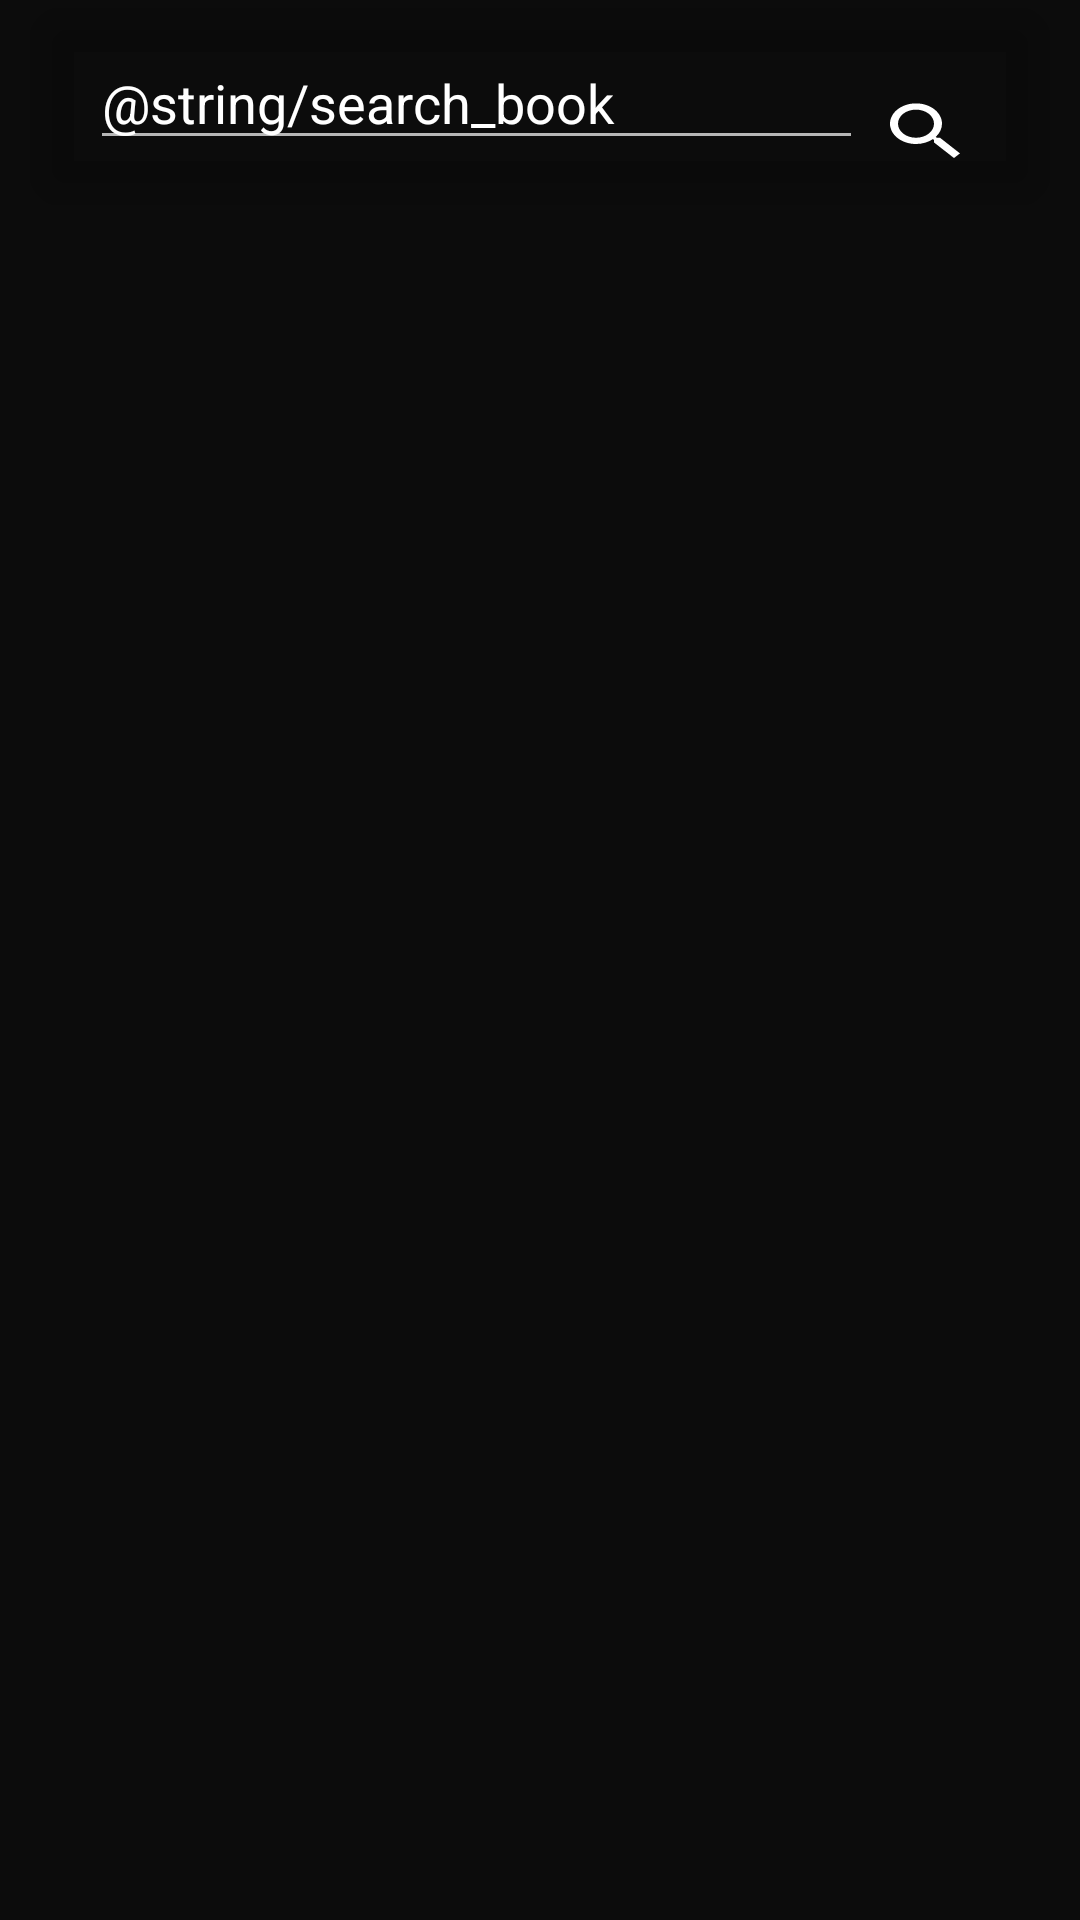

Where icons sit on this 1080 × 1920 app screen, as (x1=x1, y1=y1, x2=x2, y2=y2):
search: (x1=890, y1=103, x2=960, y2=158)
